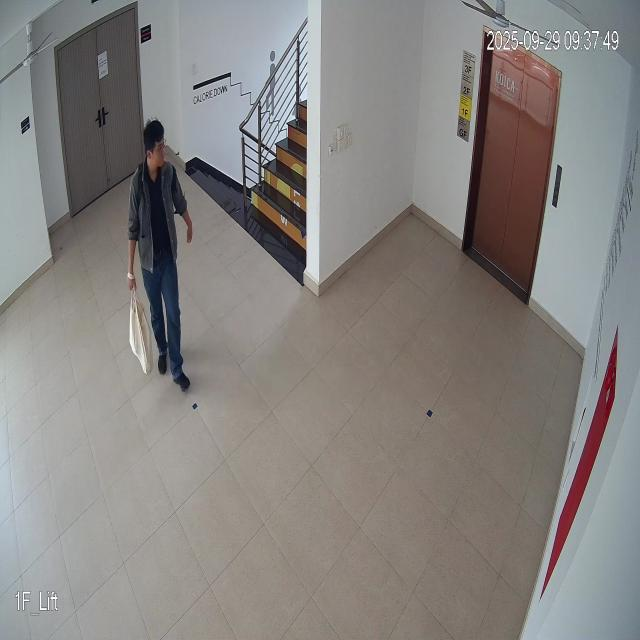face: (147, 118, 167, 170)
